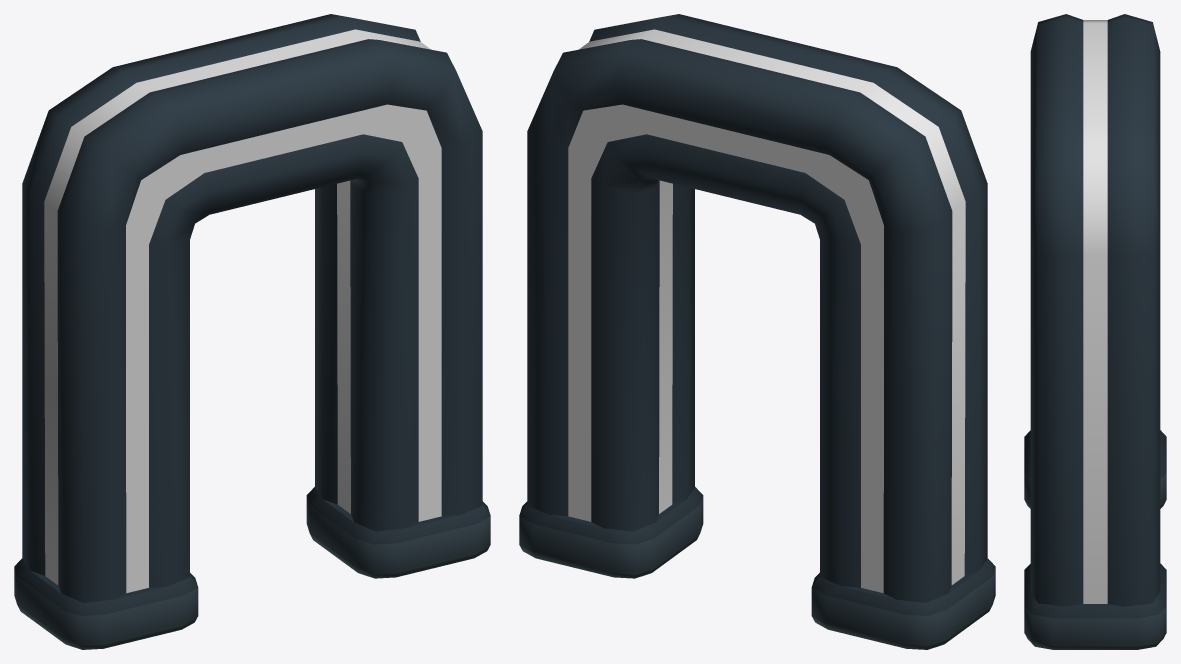
Rendered from Track_Vertical_End.fbx.
3 renders of one model, left to right at view 1: azimuth 30°, elevation 25°; view 2: azimuth 150°, elevation 25°; view 3: azimuth 270°, elevation 25°, orthographic. The views are drawn at different scales.
Visible parts, largest first — view 1: Track_Vertical_End_LOD0; view 2: Track_Vertical_End_LOD0; view 3: Track_Vertical_End_LOD0.
Boxes of the visible parts, x1,y1,x2,y2 form: Track_Vertical_End_LOD0: [14, 14, 490, 649]; Track_Vertical_End_LOD0: [519, 14, 995, 649]; Track_Vertical_End_LOD0: [1024, 14, 1166, 649].
Size of what is drawn, in the model's own units: 0.7269 by 0.8571 by 0.2263.
